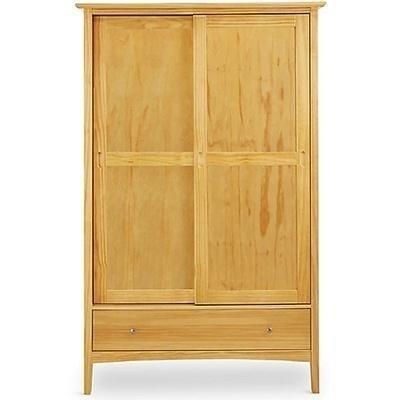Armario: (86, 11, 324, 390)
